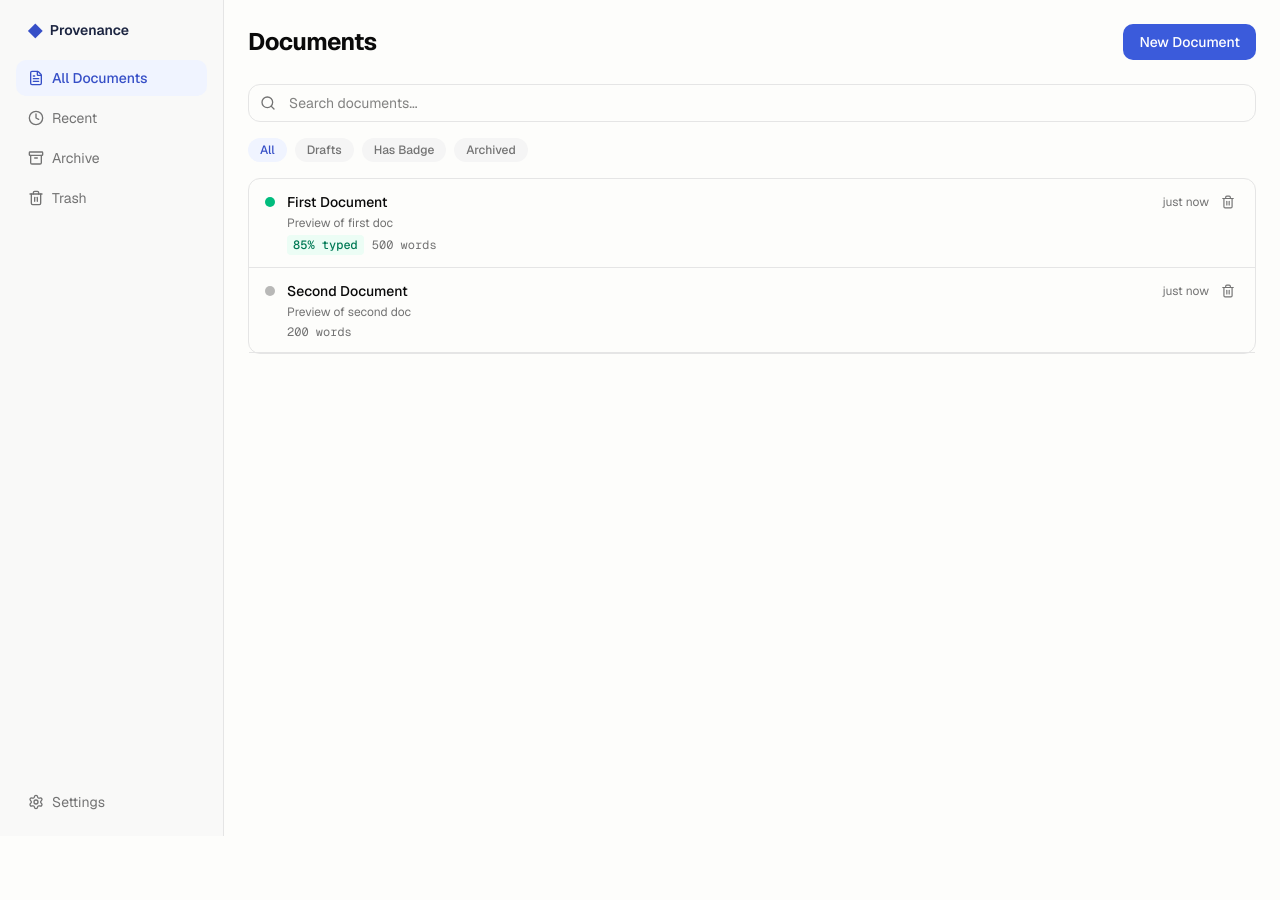
Test: DashboardContent › should filter documents by search query
In the field with placeholder "Search documents...": point(752, 103) [248,84,1256,122], type "First"
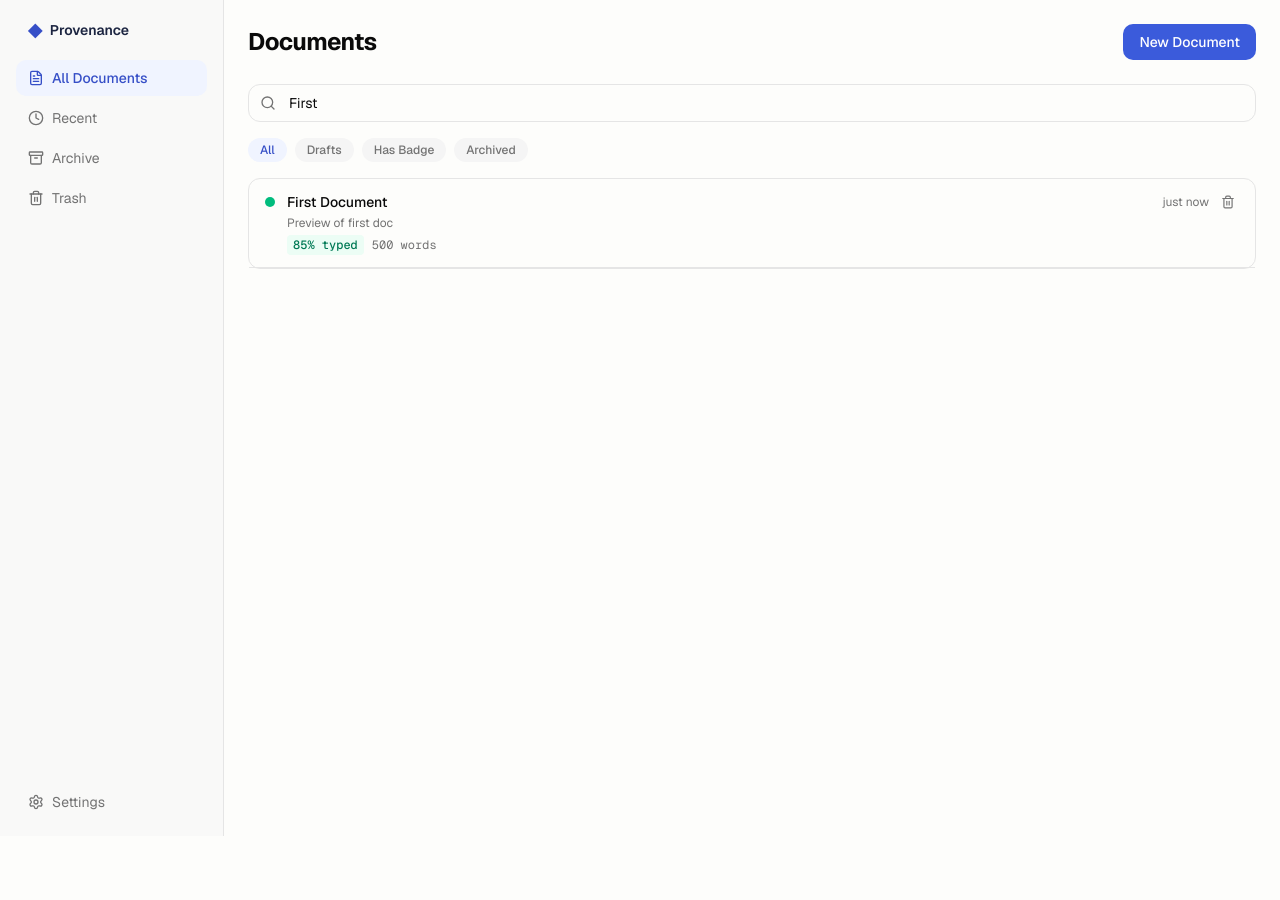
Expected: the text "First Document" is shown, [287,192,388,212]
Expected: the button "Second Document" is gone
